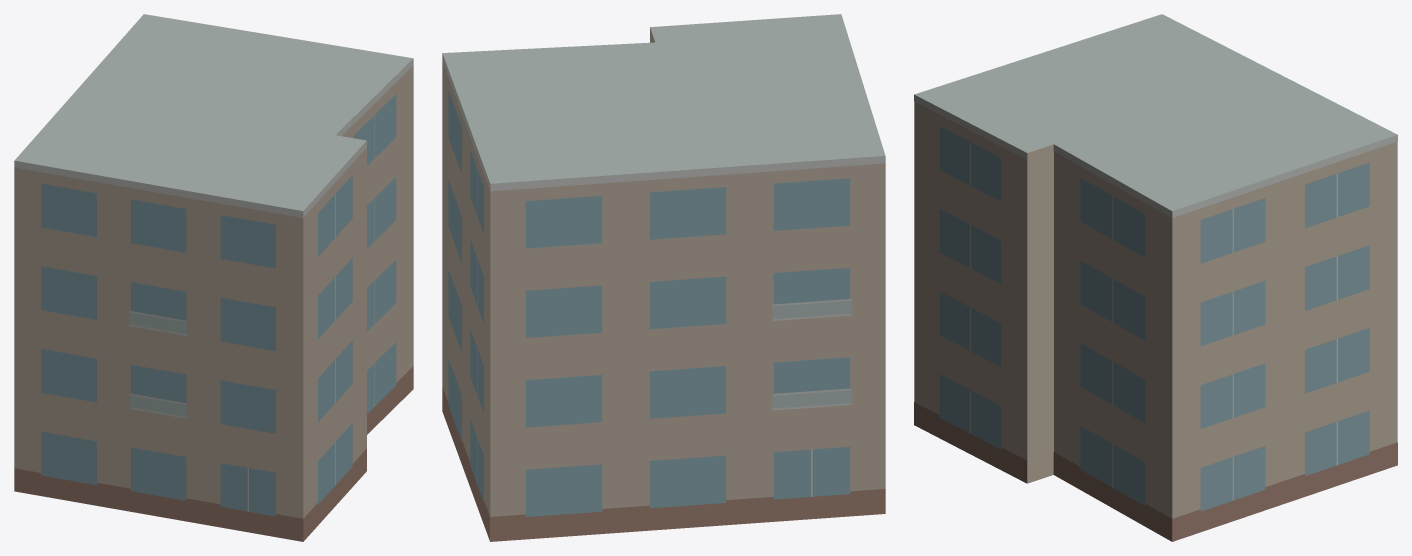
File: survey-upis-32724183.glb
3 renders of one model, left to right at view 1: azimuth 30°, elevation 25°; view 2: azimuth 150°, elevation 25°; view 3: azimuth 270°, elevation 25°, orthographic. The views are drawn at different scales.
Parts seen in each view (by area): view 1: survey-upis-32724183.tmp; view 2: survey-upis-32724183.tmp; view 3: survey-upis-32724183.tmp.
Part boxes in pixels (x1,y1,x2,y2): survey-upis-32724183.tmp: (14,14,413,541); survey-upis-32724183.tmp: (442,14,885,541); survey-upis-32724183.tmp: (914,14,1397,541).
Bounding box in the file's own units: 14.98 × 11.7 × 15.52.
